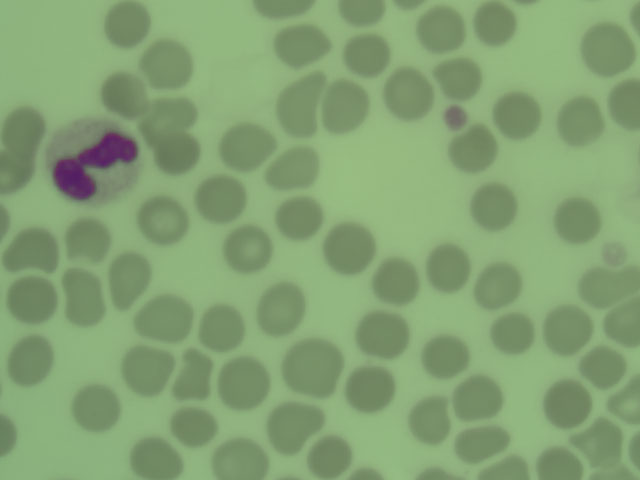Platelets: (446, 107, 467, 124)
RBC: (286, 335, 344, 397), (273, 73, 323, 139), (577, 22, 635, 73), (1, 99, 47, 157), (62, 266, 106, 326), (554, 98, 603, 148), (194, 178, 246, 221), (321, 225, 373, 268), (274, 198, 326, 241), (222, 229, 274, 272), (130, 197, 182, 240), (136, 295, 188, 338), (7, 276, 59, 319), (7, 226, 59, 269), (67, 218, 119, 261), (419, 334, 471, 377), (353, 311, 405, 354), (473, 262, 525, 305), (547, 195, 599, 238), (489, 94, 541, 137), (277, 24, 329, 67), (342, 31, 394, 74), (379, 72, 431, 115), (123, 347, 175, 390), (193, 303, 245, 346), (253, 283, 305, 326), (419, 245, 471, 288), (368, 254, 420, 297), (220, 125, 272, 168), (447, 130, 499, 173), (464, 183, 516, 226), (400, 397, 452, 440), (69, 386, 121, 429), (167, 401, 219, 444), (222, 355, 274, 398), (268, 402, 320, 445), (342, 365, 394, 408), (455, 419, 507, 462), (100, 2, 152, 45), (147, 126, 199, 169), (142, 96, 194, 139), (99, 71, 151, 114), (140, 40, 192, 83), (417, 6, 469, 49), (578, 265, 630, 308), (451, 375, 503, 418), (303, 434, 355, 477), (213, 437, 265, 480), (125, 437, 177, 480), (537, 308, 589, 351), (486, 313, 538, 356), (540, 382, 592, 425), (267, 144, 319, 187), (435, 55, 487, 98), (572, 415, 624, 458), (532, 437, 584, 480), (321, 83, 363, 136), (469, 1, 521, 42), (7, 336, 49, 386), (575, 345, 622, 388), (109, 257, 148, 307), (172, 352, 208, 400), (1, 155, 38, 195), (605, 299, 640, 337), (607, 383, 640, 421), (249, 1, 316, 19), (334, 1, 389, 22), (1, 412, 22, 459)
WBC: (54, 121, 142, 202)
